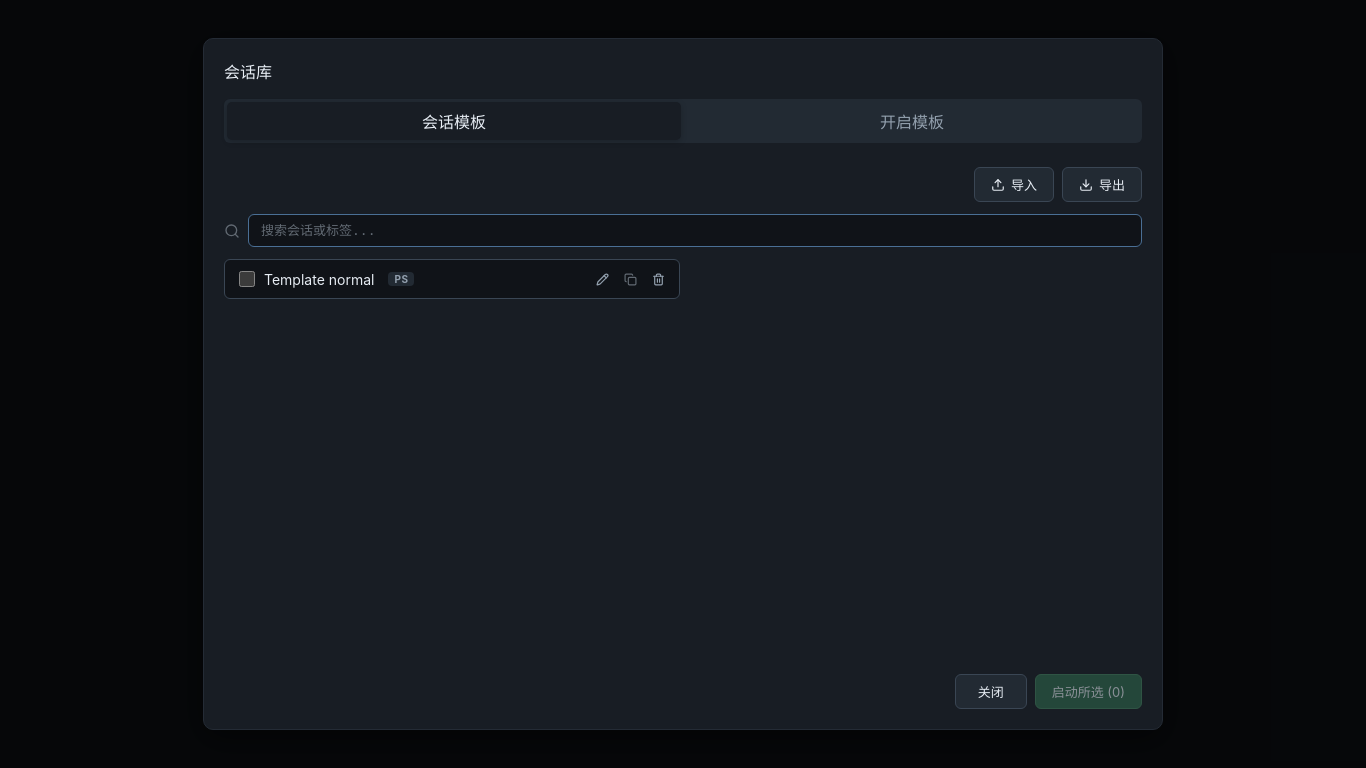
Test: SessionPickerModal frequent templates › switches from session templates to launch templates
The width and height of the screenshot is (1366, 768).
Click the tab "开启模板". click: x=912, y=121
box: [685,102,1139,140]
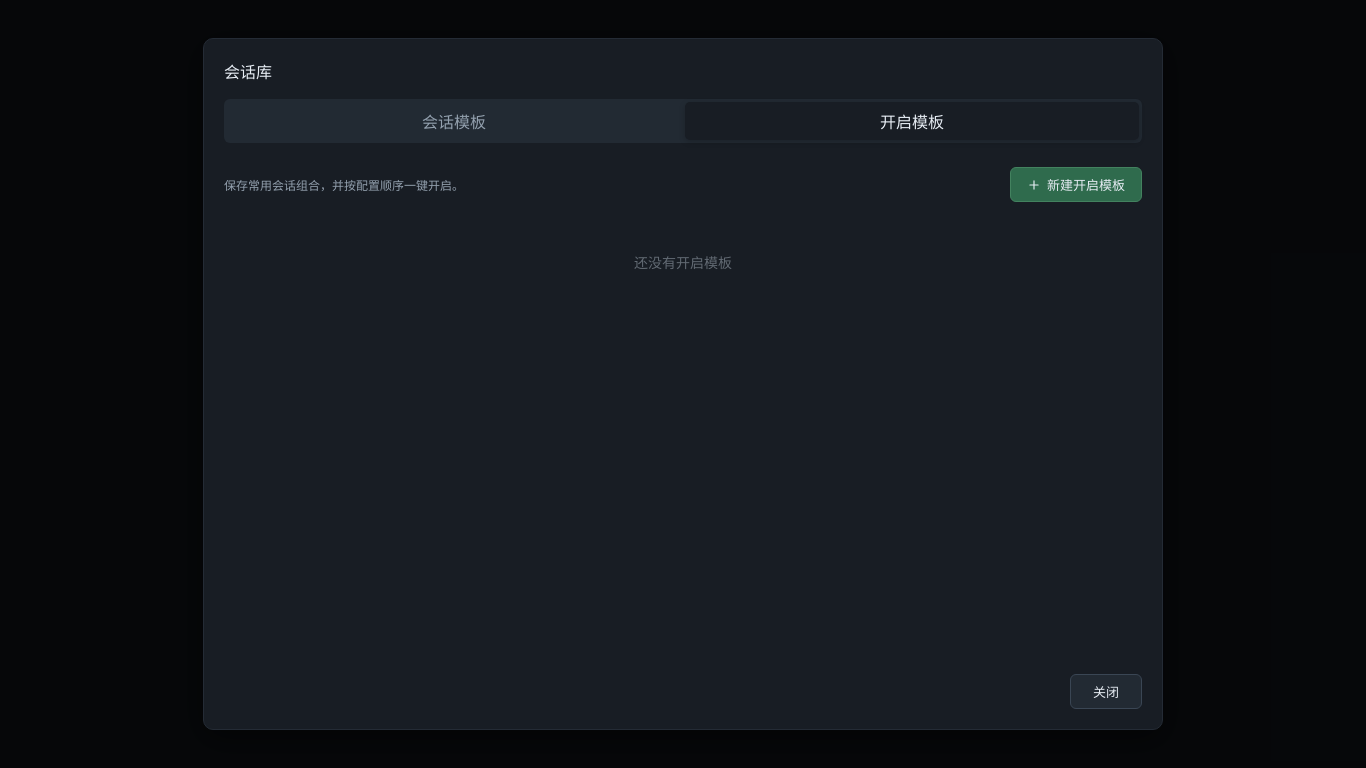
expect the text "还没有开启模板" is shown: met, box [634,254,732,271]
expect the field with placeholder "搜索会话或标签..." is gone: met
